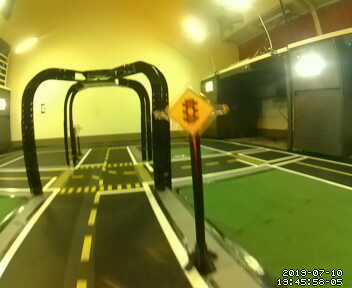Traffic light sign: (172, 87, 216, 134)
